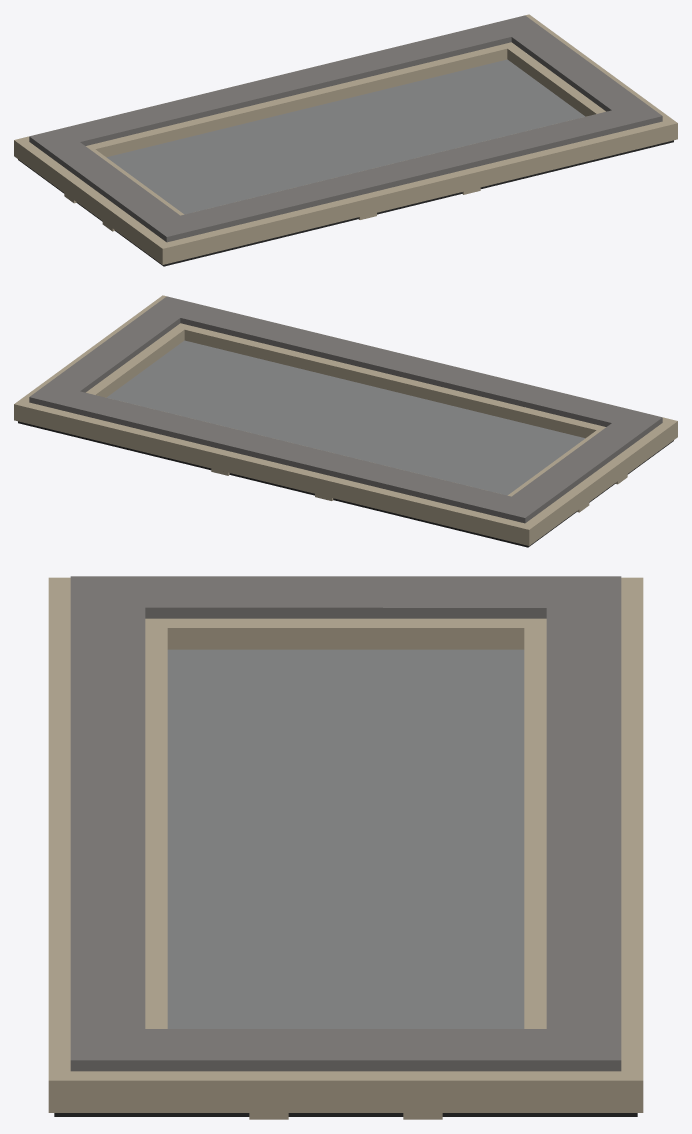
The model's file is Building_B_02.FBX.
3 views of the same model, one above another, from view 1: azimuth 30°, elevation 25°; view 2: azimuth 150°, elevation 25°; view 3: azimuth 270°, elevation 25° (orthographic). The views are drawn at different scales.
Visible parts, largest first — view 1: Building_B_02; view 2: Building_B_02; view 3: Building_B_02.
Part boxes in pixels (x1=…): Building_B_02: x1=14, y1=14, x2=677, y2=266; Building_B_02: x1=14, y1=295, x2=677, y2=547; Building_B_02: x1=48, y1=576, x2=643, y2=1119.
Size of the model in its own units: 10 by 0.4615 by 5.
